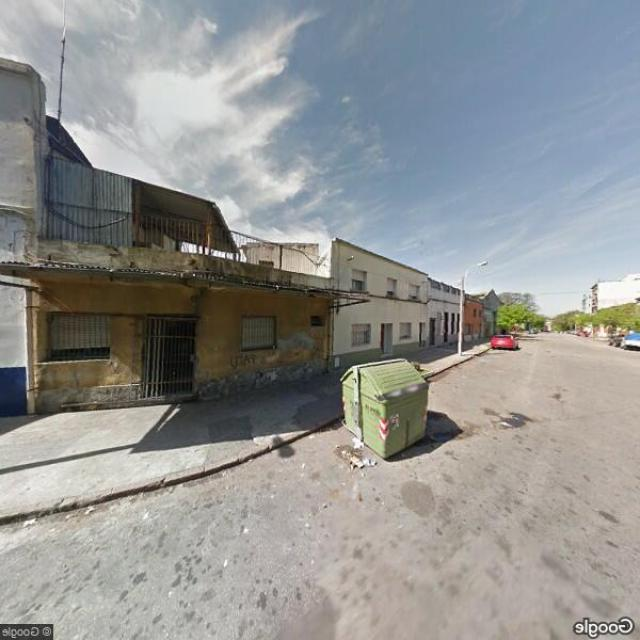garbage container: (322, 349, 442, 470)
